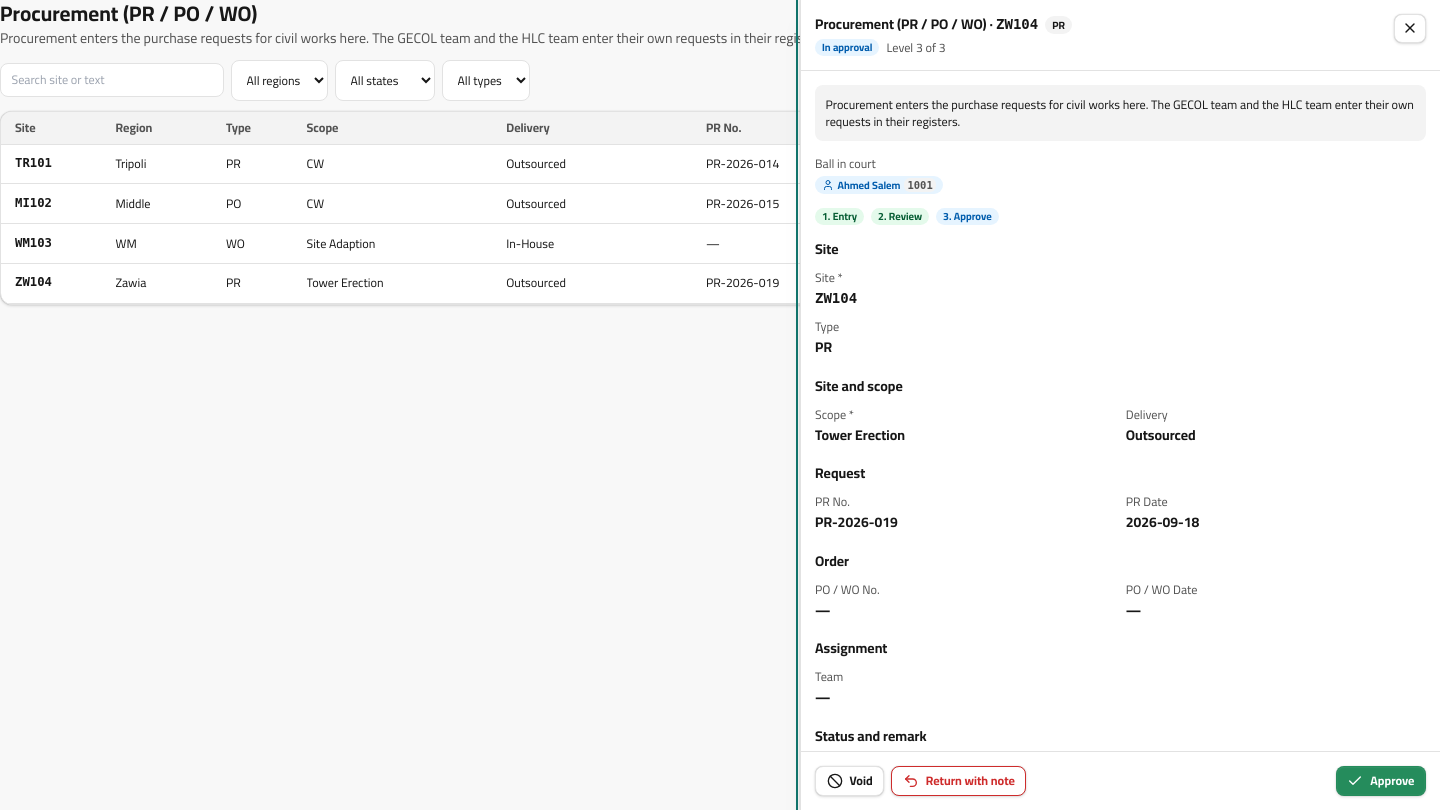
Test: Manual entry: create, submit, review, approve › refuses a rejection without a note and returns the record one level back with it
Click the button with test id "reg-reject".
click(959, 781)  # box x1=891 y1=766 x2=1026 y2=796
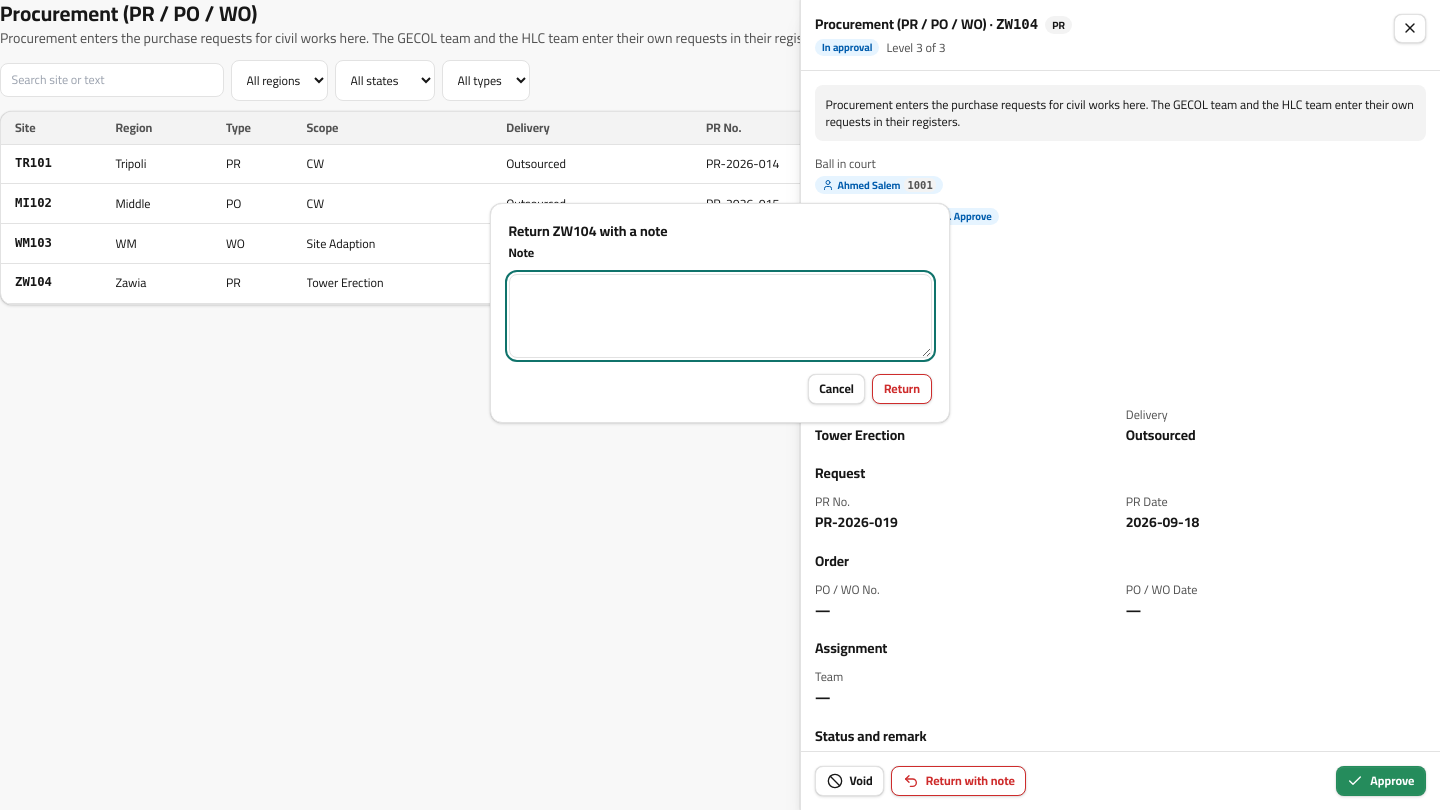
Click the button with test id "reject-submit".
click(902, 389)  # box x1=872 y1=374 x2=932 y2=404
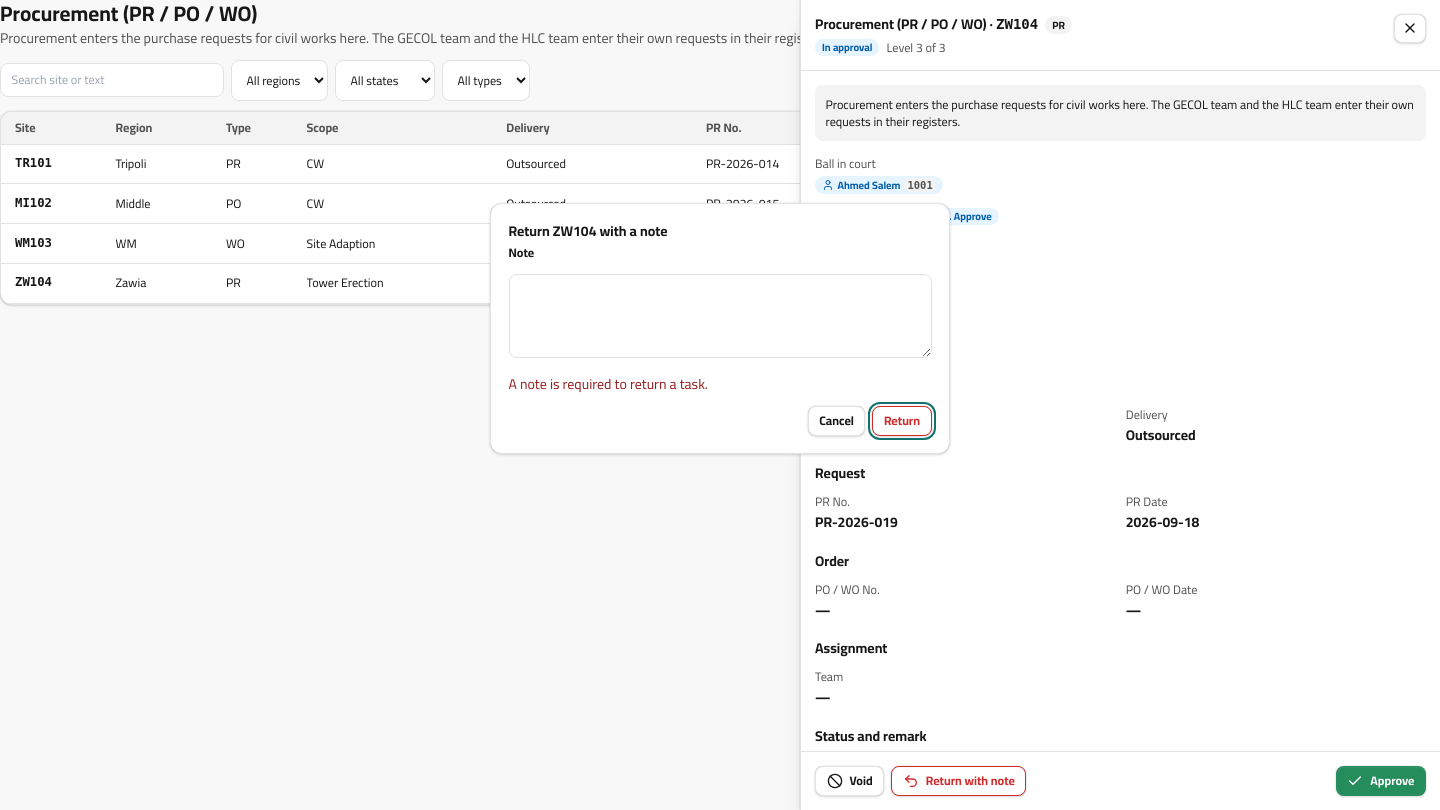
Expected: the message "A note is required to return a task." is shown, x1=508 y1=371 x2=708 y2=397
Type "PR date is missing" into the text box with test id "reject-note".
click(720, 316); type("PR date is missing")  # box x1=508 y1=274 x2=932 y2=358
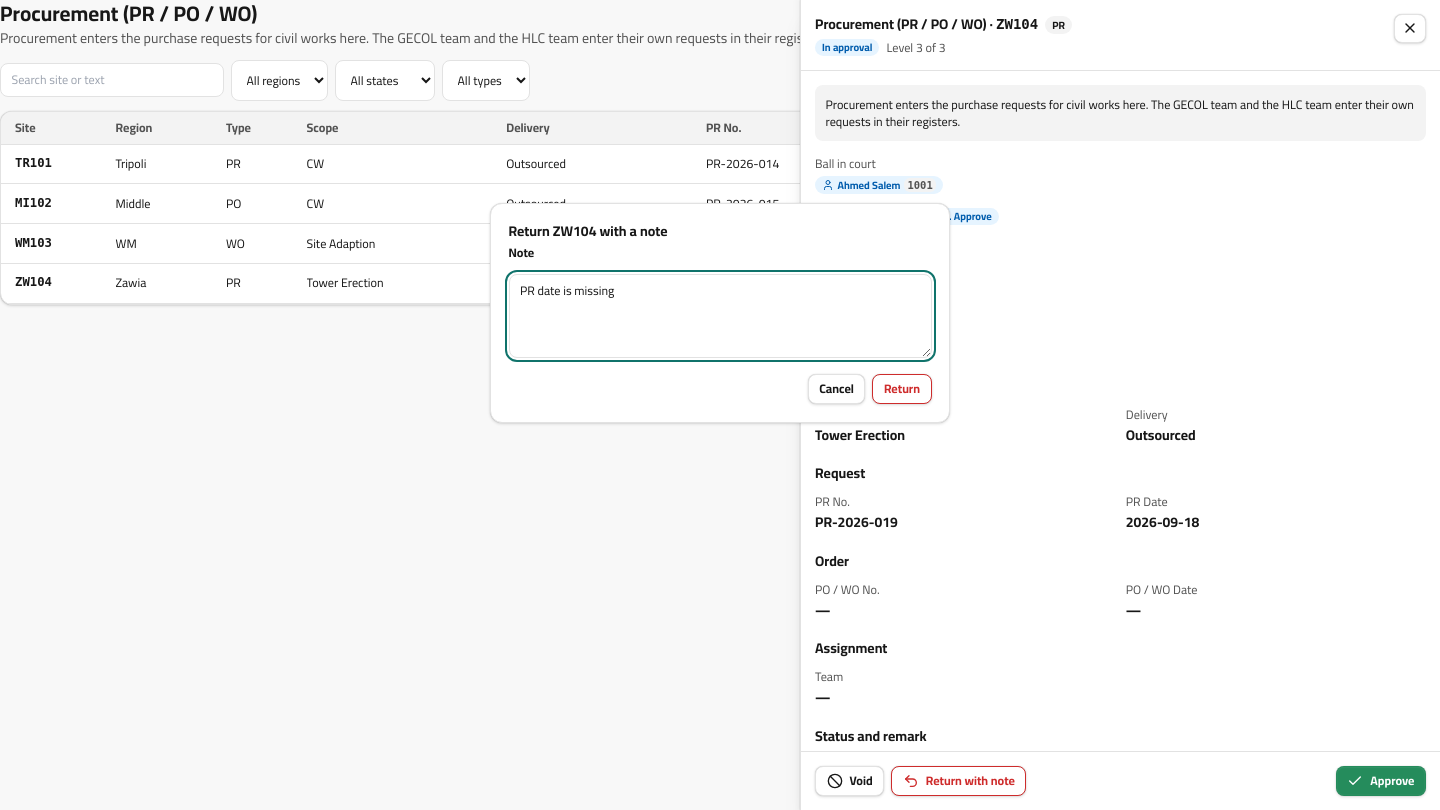
Click the button with test id "reject-submit".
click(902, 389)  # box x1=872 y1=374 x2=932 y2=404
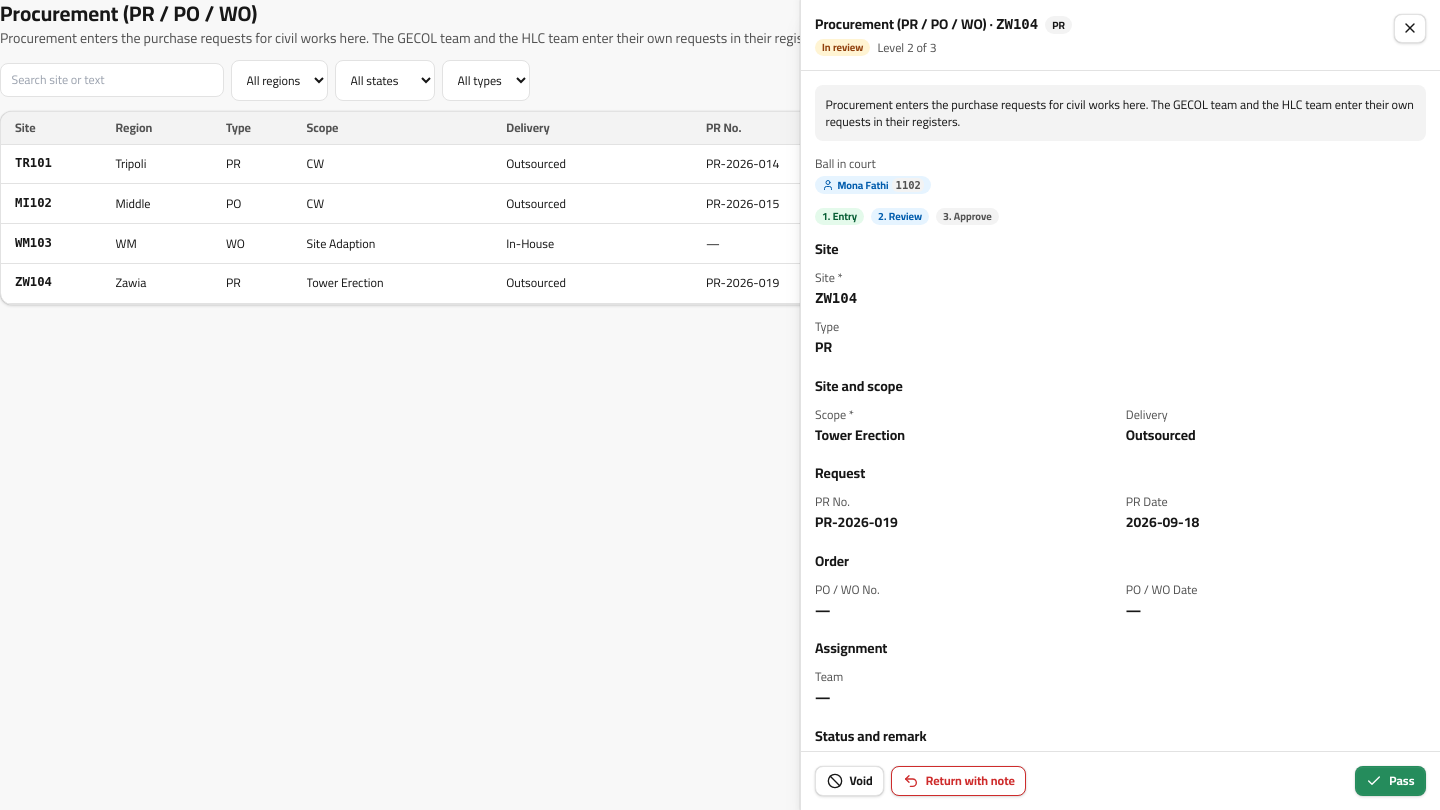
Expected: the text with test id "reg-state" reads "In review", x1=822 y1=37 x2=863 y2=57
